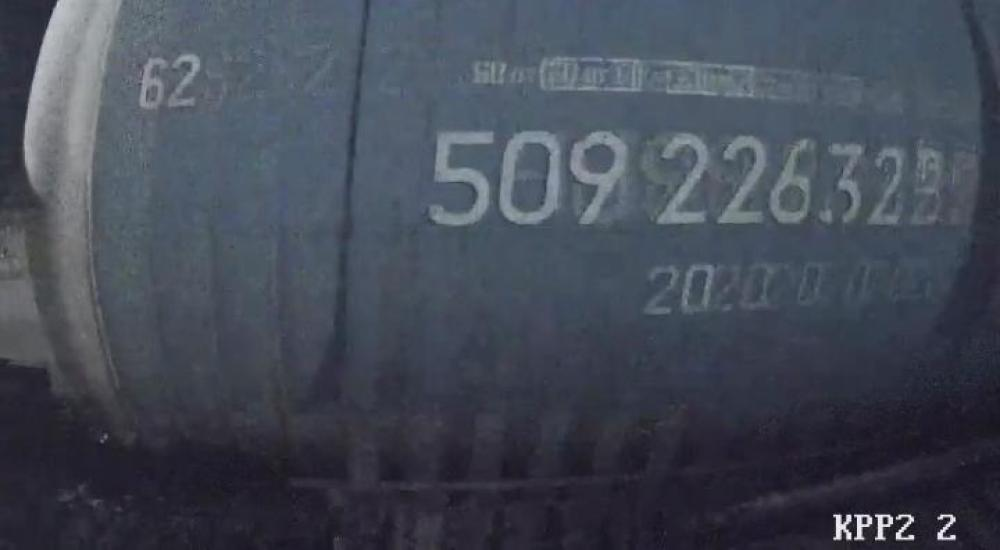Wagon-number: (421, 121, 909, 236)
